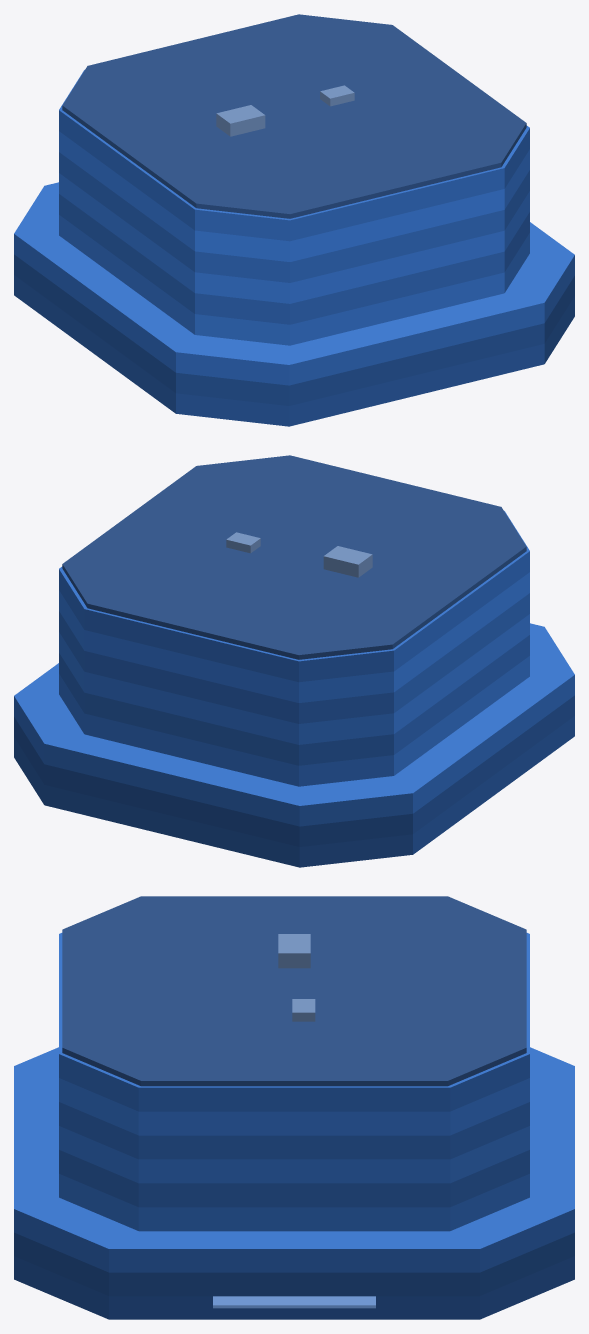
3 renders of one model, top to bottom at view 1: azimuth 30°, elevation 25°; view 2: azimuth 150°, elevation 25°; view 3: azimuth 270°, elevation 25°, orthographic. The views are drawn at different scales.
Visible parts, largest first — view 1: shell; view 2: shell; view 3: shell.
Boxes of the visible parts, box(x1,y1,x2,y2) form: shell: box(14, 14, 574, 426); shell: box(14, 455, 574, 867); shell: box(14, 896, 574, 1319).
Bounding box in the file's own units: 83.2 × 39.2 × 85.
